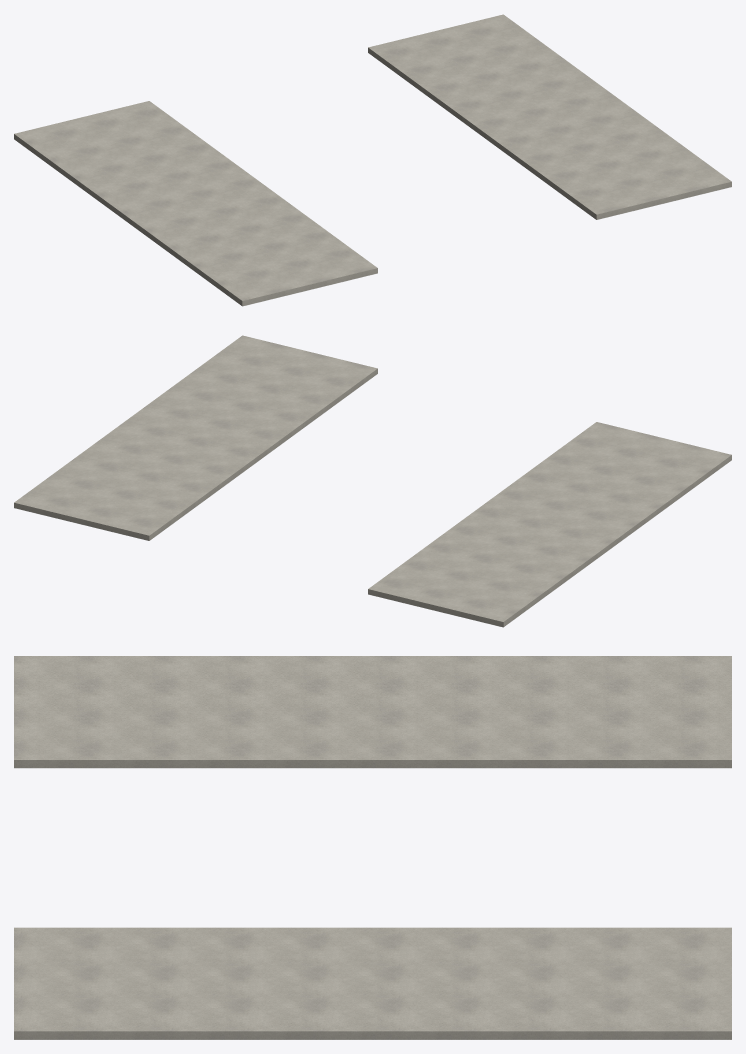
File: slab_1.glb
3 renders of one model, top to bottom at view 1: azimuth 30°, elevation 25°; view 2: azimuth 150°, elevation 25°; view 3: azimuth 270°, elevation 25°, orthographic. The views are drawn at different scales.
Parts seen in each view (by area): view 1: slab_1_conc_s, slab_1_ceil; view 2: slab_1_conc_s, slab_1_ceil; view 3: slab_1_conc_s, slab_1_ceil.
Part boxes in pixels (bbox=[...]): slab_1_conc_s: bbox=[14, 14, 731, 306]; slab_1_ceil: bbox=[14, 53, 731, 306]; slab_1_conc_s: bbox=[14, 335, 731, 627]; slab_1_ceil: bbox=[14, 374, 731, 627]; slab_1_conc_s: bbox=[14, 656, 731, 1039]; slab_1_ceil: bbox=[14, 768, 731, 1039].
Bounding box in the file's own units: 23.5 × 0.34 × 19.
4 materials, 2 textured.
